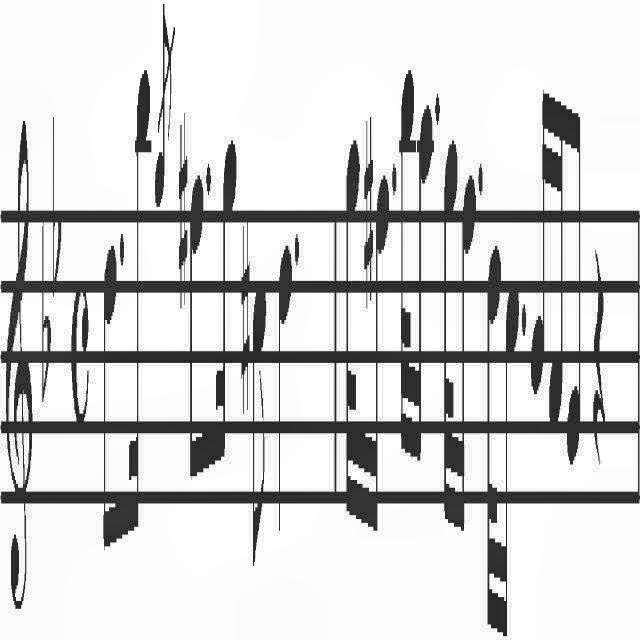Bass-clef: (0, 55, 32, 640)
Bemol: (36, 188, 52, 416), (46, 95, 64, 288)
Diez: (239, 182, 253, 414), (176, 87, 188, 309), (362, 97, 373, 303)
Eighth-note: (100, 223, 118, 567), (568, 87, 584, 457), (251, 255, 269, 570), (190, 165, 204, 480)
Quarter-note: (275, 221, 291, 539)
Quarter-rest: (592, 231, 606, 467)
Sixteenth-note: (128, 54, 152, 546), (370, 149, 390, 546), (215, 126, 238, 454), (460, 162, 476, 554), (417, 100, 433, 472), (504, 271, 520, 634), (530, 58, 546, 396), (551, 71, 565, 428)
